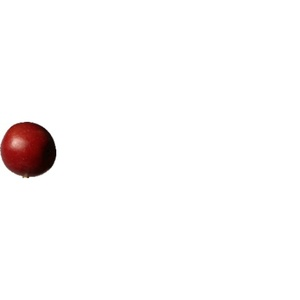maçã braeburn: (1, 121, 58, 181)
